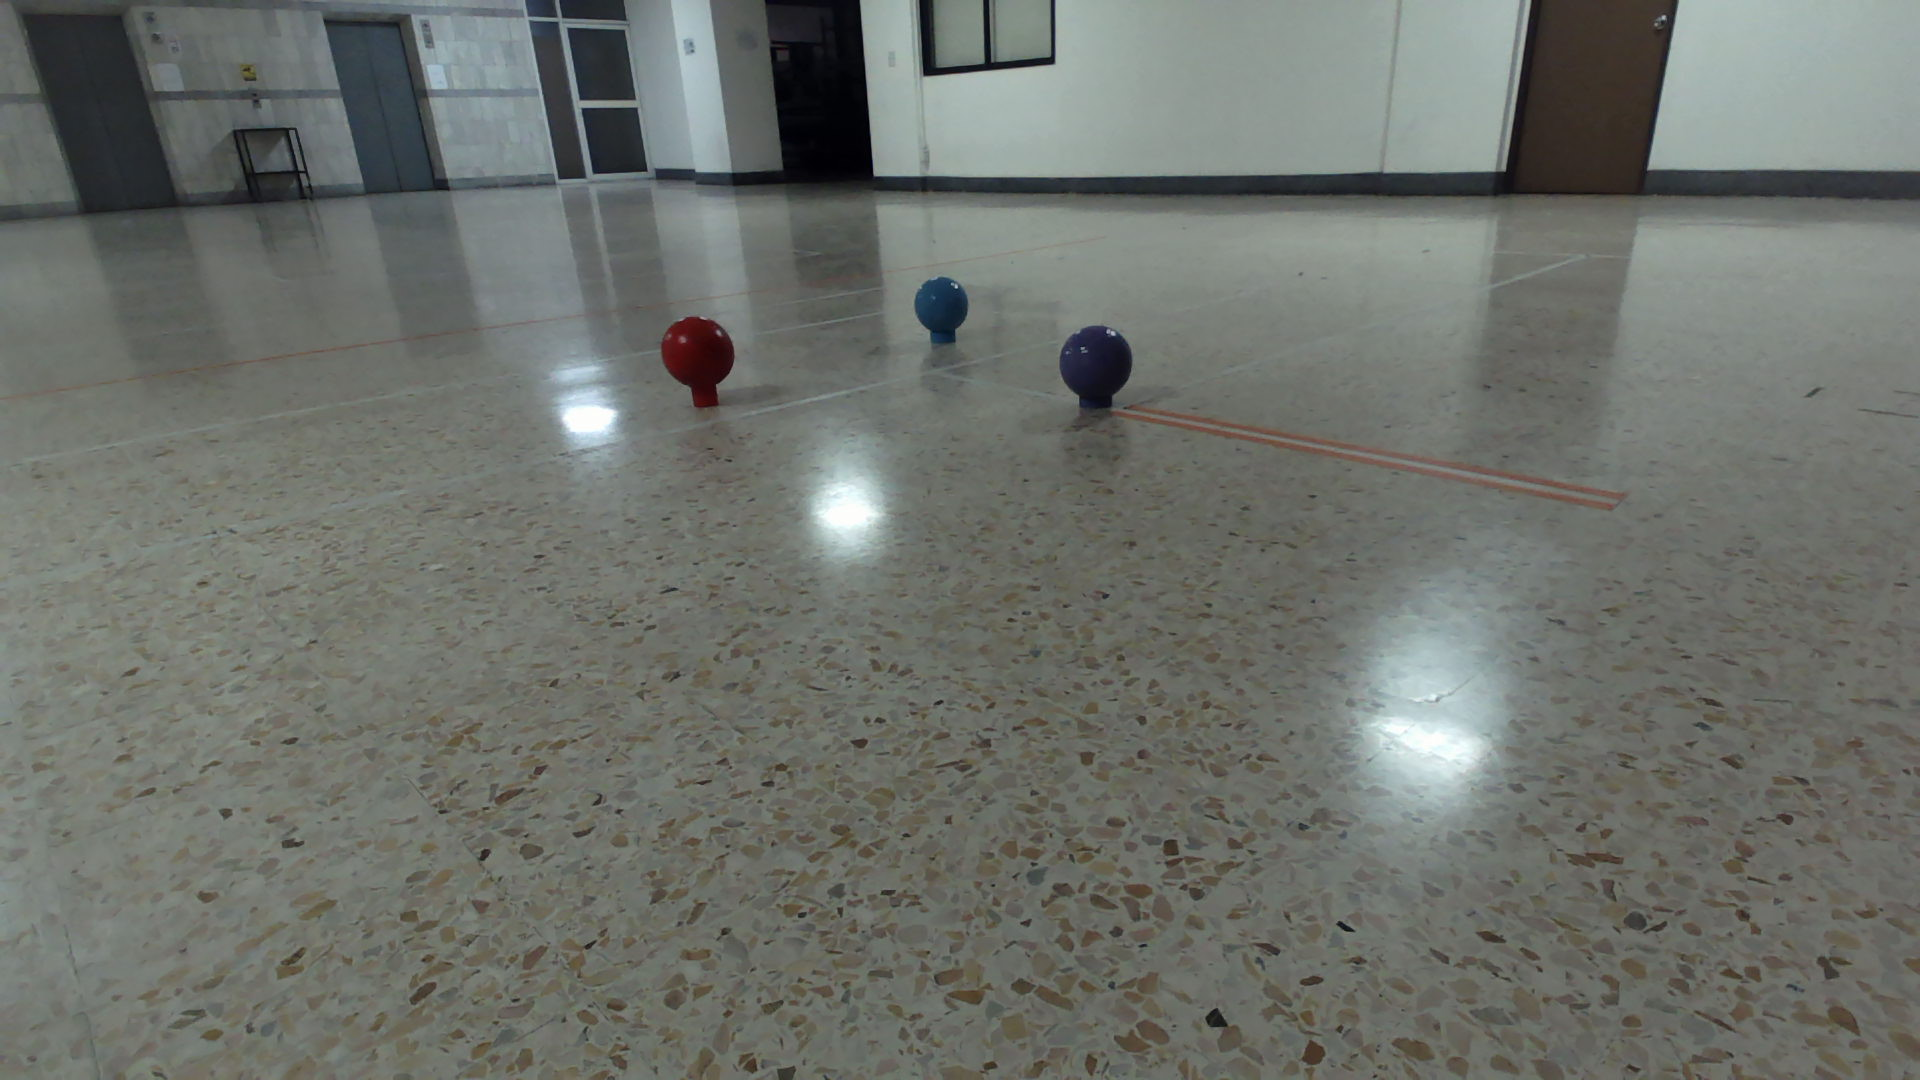Blue ball: (913, 274, 968, 334)
Purple ball: (1058, 323, 1134, 402)
Red ball: (661, 315, 736, 389)
